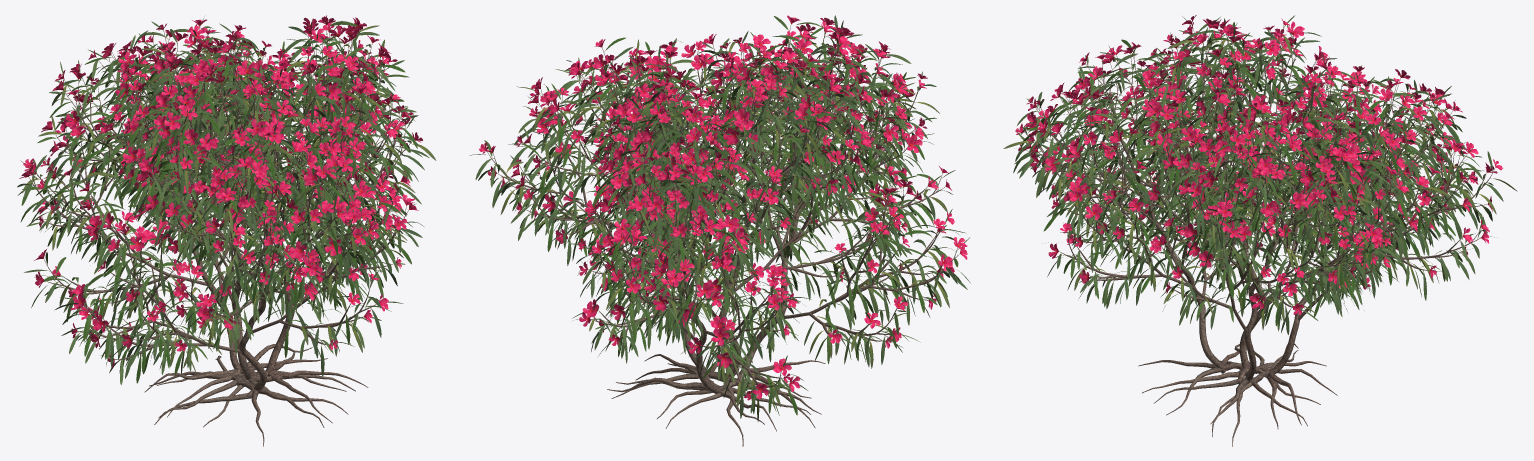
File: Nerium oleander.fbx
The picture shows the model from 3 angles, left to right: view 1: azimuth 30°, elevation 25°; view 2: azimuth 150°, elevation 25°; view 3: azimuth 270°, elevation 25°; orthographic projection. The views are drawn at different scales.
Visible parts, largest first — view 1: Leaf01_2, Flower03_2, Bark01_2; view 2: Leaf01_2, Flower03_2, Bark01_2; view 3: Leaf01_2, Flower03_2, Bark01_2.
Boxes of the visible parts, bbox=[...] form: Leaf01_2: bbox=[17, 18, 436, 385]; Flower03_2: bbox=[19, 15, 422, 367]; Bark01_2: bbox=[29, 22, 411, 446]; Leaf01_2: bbox=[469, 15, 970, 421]; Flower03_2: bbox=[479, 15, 967, 400]; Bark01_2: bbox=[486, 24, 959, 446]; Leaf01_2: bbox=[1003, 15, 1517, 334]; Flower03_2: bbox=[1015, 15, 1503, 314]; Bark01_2: bbox=[1024, 24, 1495, 446].
Bounding box in the file's own units: 252 × 218 × 282.
